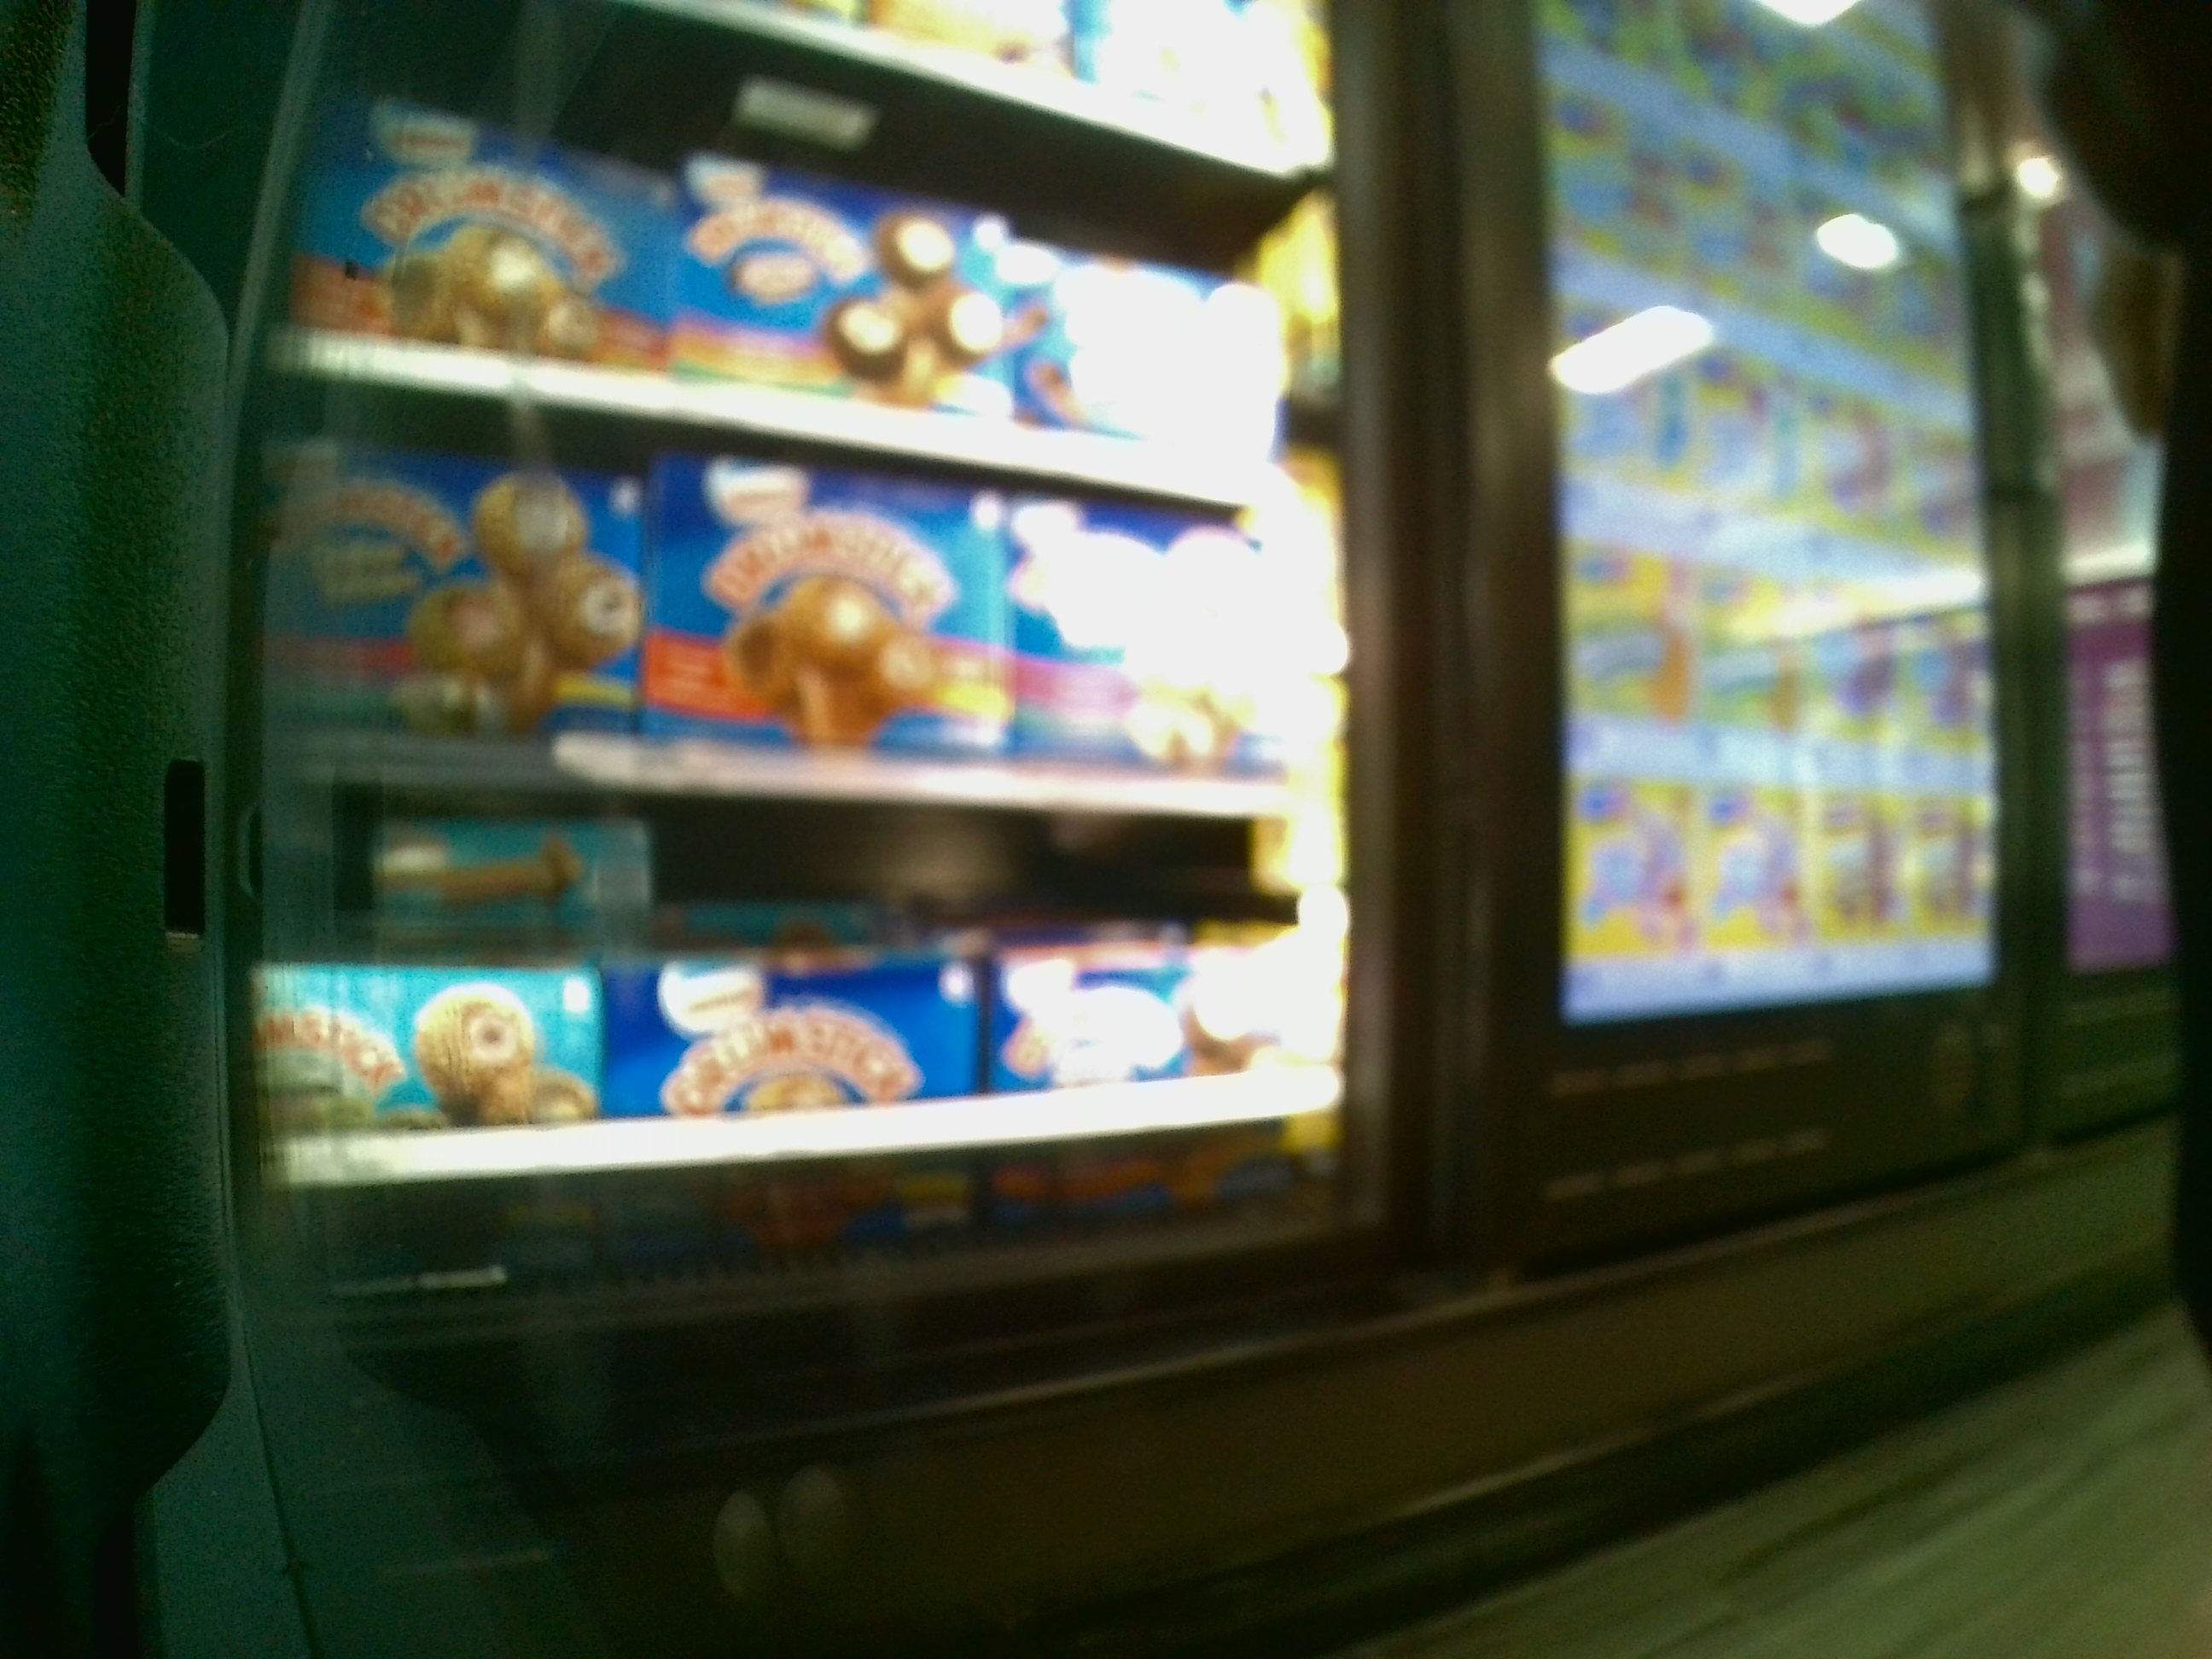shelf: (280, 826, 1341, 1265), (268, 437, 1346, 814)
